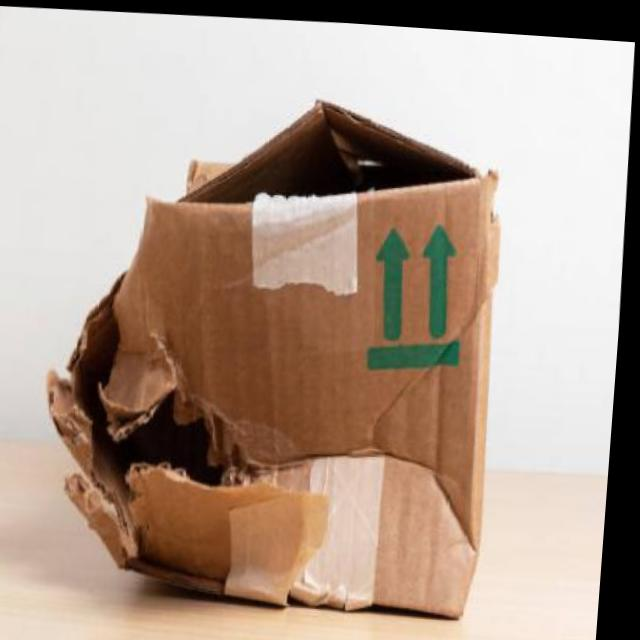box: (30, 62, 541, 640)
